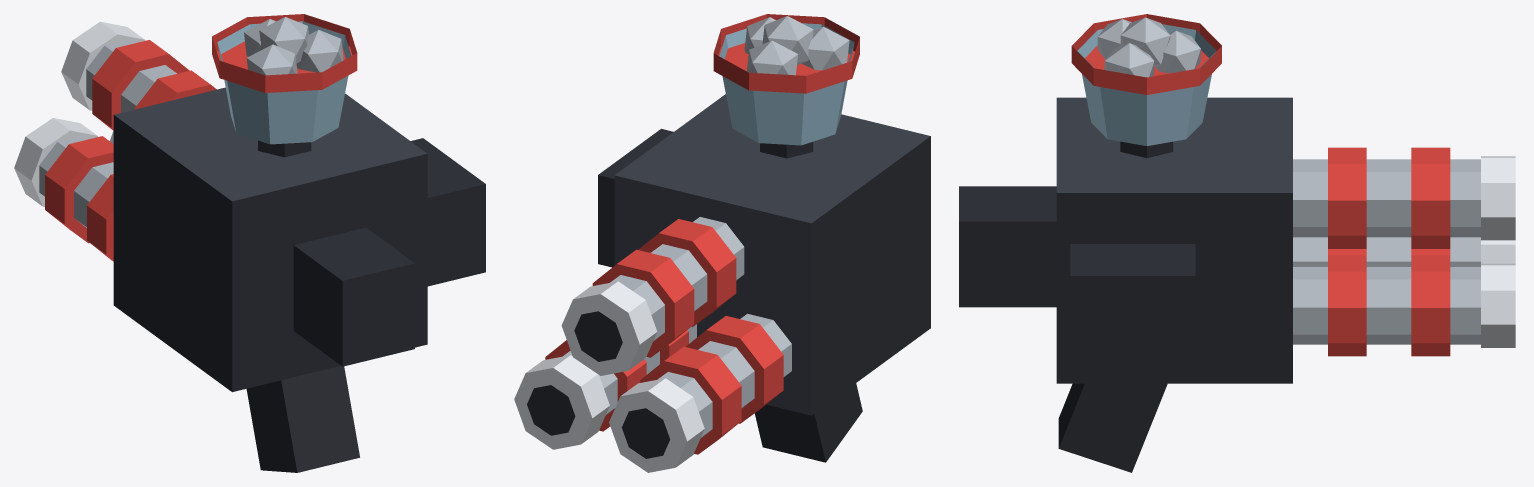
Rendered from G_Miknato_3.fbx.
3 renders of one model, left to right at view 1: azimuth 30°, elevation 25°; view 2: azimuth 150°, elevation 25°; view 3: azimuth 270°, elevation 25°, orthographic.
Parts seen in each view (by area): view 1: G_Miknato_3; view 2: G_Miknato_3; view 3: G_Miknato_3.
Part boxes in pixels (x1,y1,x2,y2): G_Miknato_3: (14, 14, 485, 472); G_Miknato_3: (514, 14, 930, 472); G_Miknato_3: (959, 14, 1515, 472).
Size of the model in its own units: 0.3132 by 0.5063 by 0.5844.
